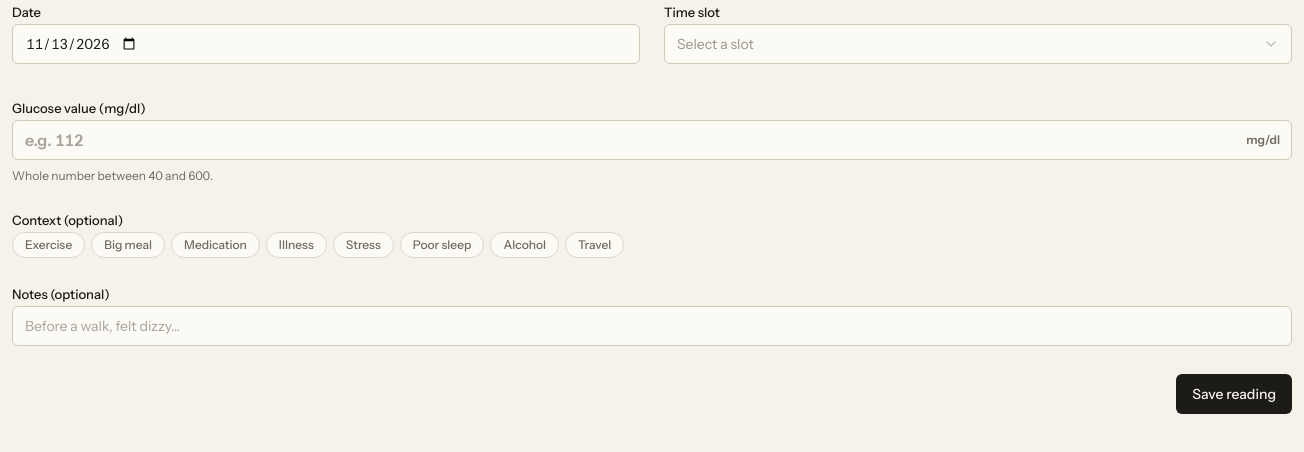
Test case: ReadingForm › warns when the slot is already used on that date
Click the dropdown named "time slot". click: (715,44)
box: [664, 24, 1292, 64]
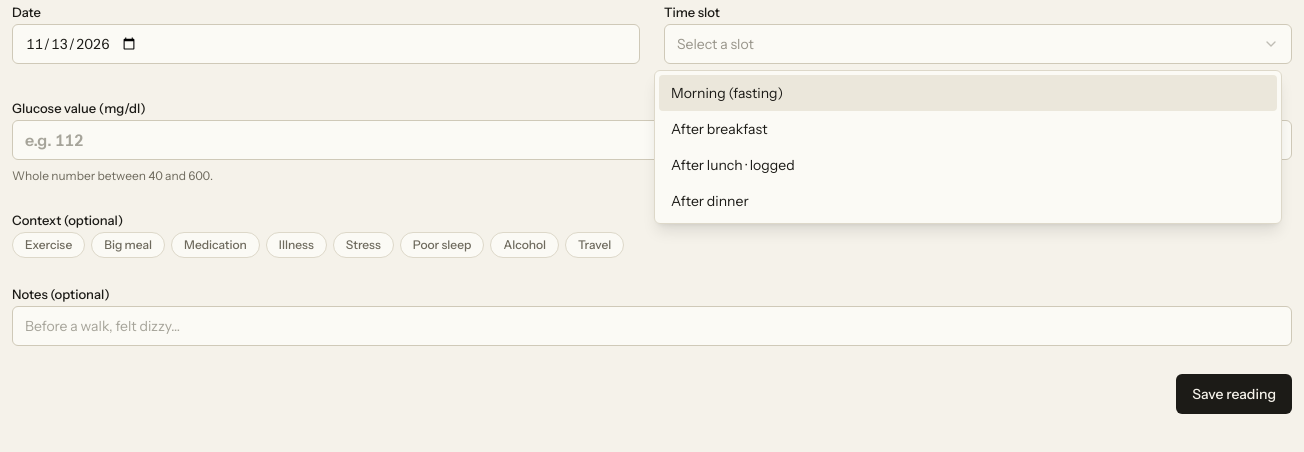
Click the option "After lunch · logged". click: (733,165)
box: [671, 156, 795, 174]
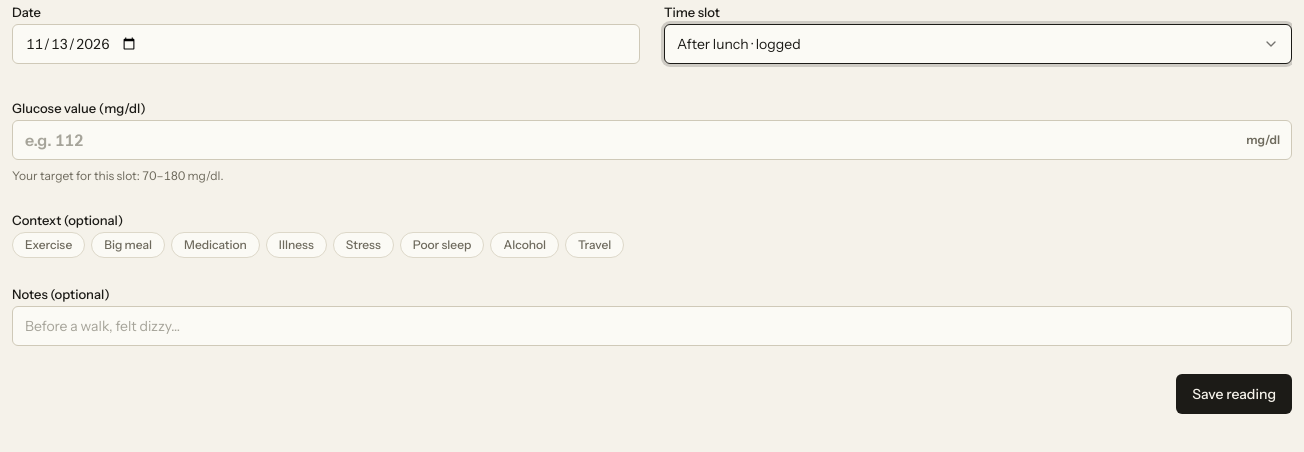
Type "150" into the field labelled "Glucose value (mg/dl)". click: (652,140)
box: [12, 120, 1292, 160]
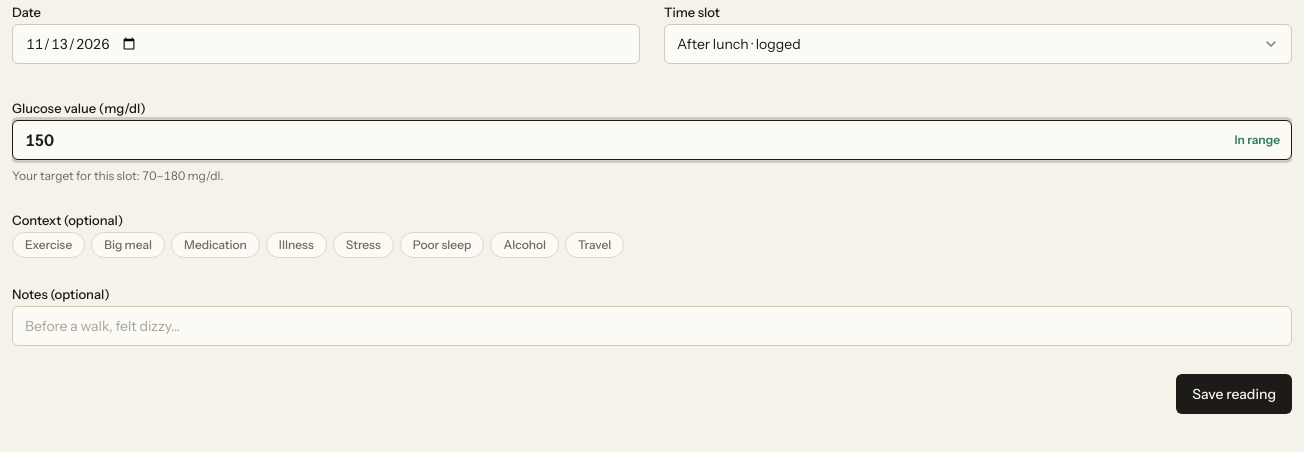
Click the button "Save reading". click: (1234,394)
box: [1176, 374, 1292, 414]
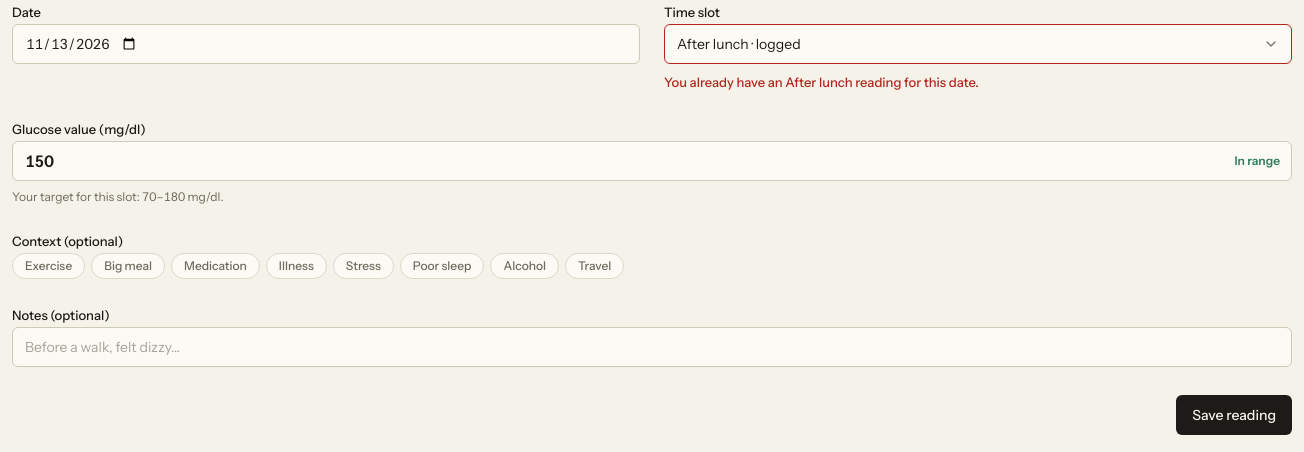
Check: the text "You already have an After lunch reading for this date." is shown, box [664, 74, 979, 90]
